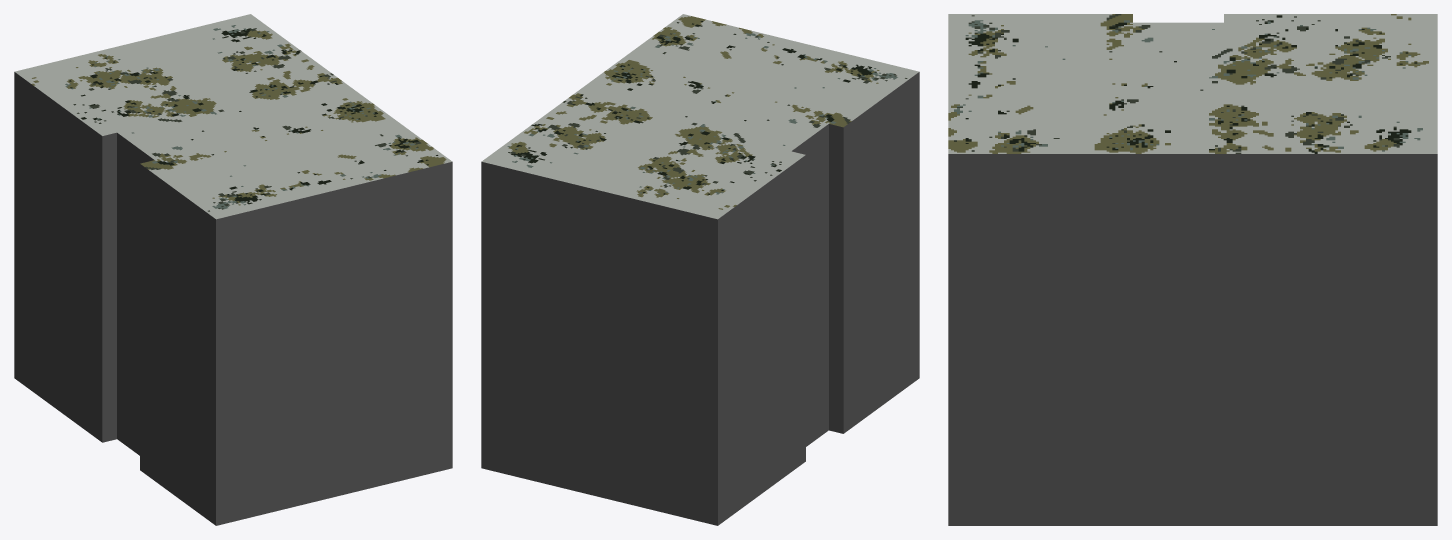
File: baza.fbx
The picture shows the model from 3 angles, left to right: view 1: azimuth 30°, elevation 25°; view 2: azimuth 150°, elevation 25°; view 3: azimuth 270°, elevation 25°; orthographic projection. The views are drawn at different scales.
Visible parts, largest first — view 1: Box002; view 2: Box002; view 3: Box002.
Boxes of the visible parts, x1,y1,x2,y2 form: Box002: (14, 14, 452, 525); Box002: (481, 14, 919, 525); Box002: (948, 14, 1437, 525).
Bounding box in the file's own units: 113 × 140 × 167.
